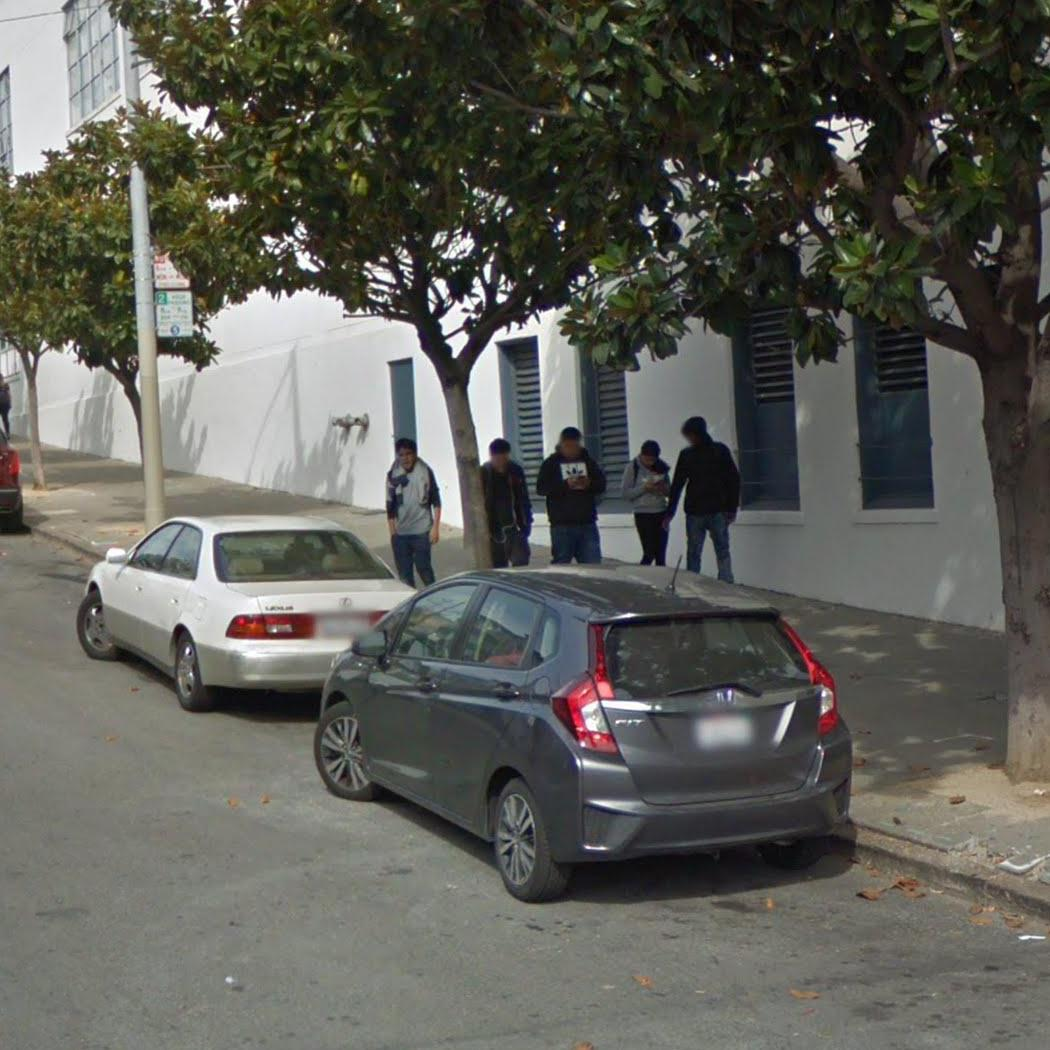2 Hour Parking: (153, 289, 196, 340)
No Parking: (151, 250, 191, 291)
